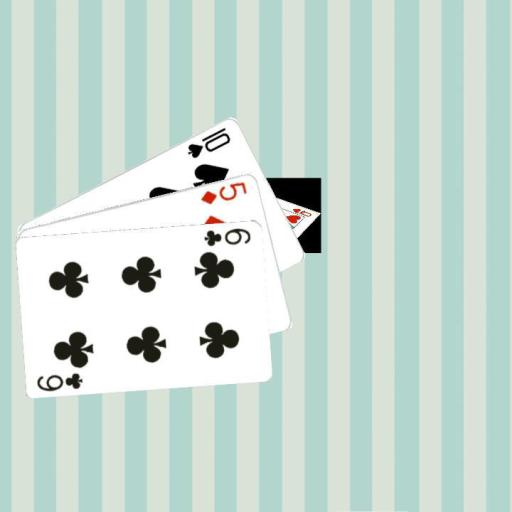10S: (184, 124, 233, 159)
5D: (198, 178, 249, 205)
6C: (34, 369, 85, 393), (202, 224, 253, 247)
